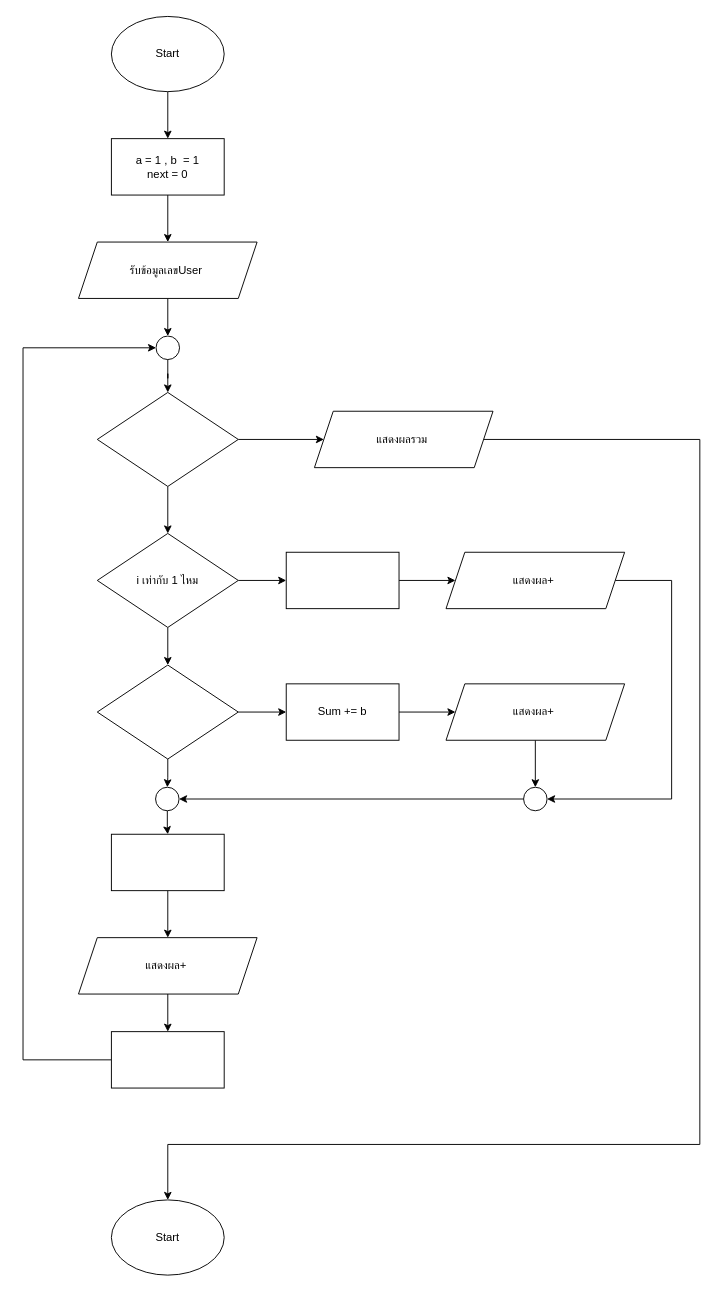
Some shapes in this 724 by 1292 pixel diagram are drawn without their labels. Each missing label, with the box of its shape:
i + 1: (110, 1031, 224, 1088)
i = 1 i มากกว่าหรือเท่ากับ เลขUserไหม: (96, 392, 238, 486)
i เท่ากับ 2 ไหม: (96, 664, 238, 759)
Next = a + b: (110, 833, 224, 891)
Sum += a: (285, 551, 399, 609)
